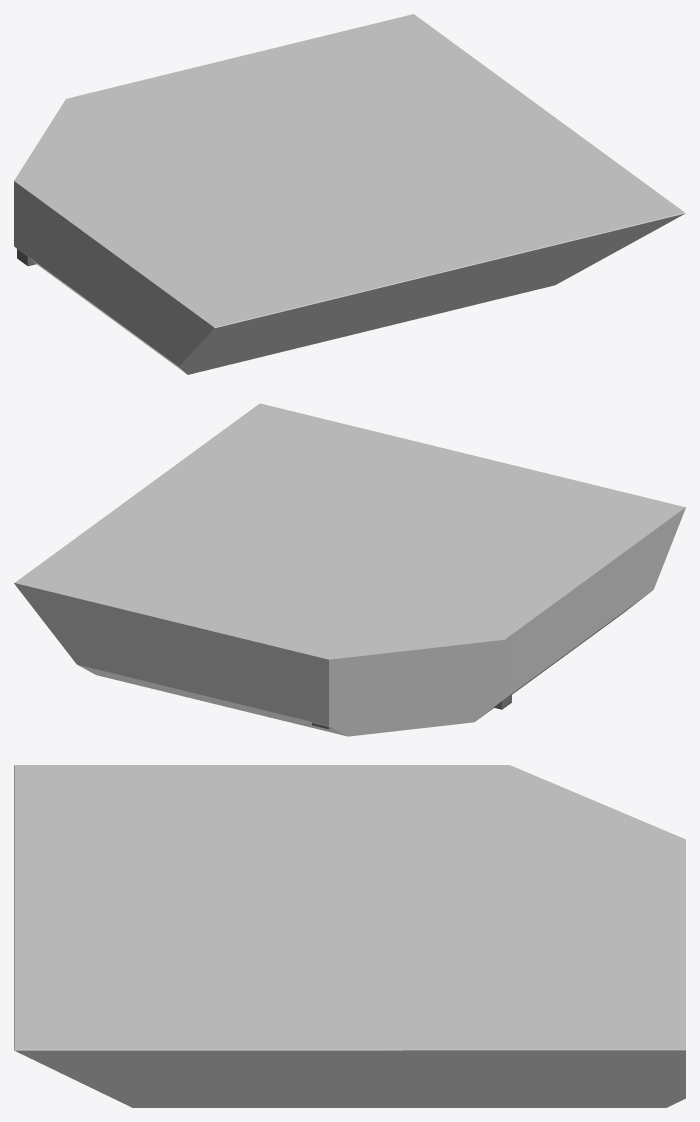
The model's file is SM_DG_HG_Floor02B.fbx.
3 views of the same model, one above another, from view 1: azimuth 30°, elevation 25°; view 2: azimuth 150°, elevation 25°; view 3: azimuth 270°, elevation 25° (orthographic). The views are drawn at different scales.
Parts seen in each view (by area): view 1: SM_DG_HG_Floor02B_ConvexHulls; view 2: SM_DG_HG_Floor02B_ConvexHulls; view 3: SM_DG_HG_Floor02B_ConvexHulls.
Part boxes in pixels (x1,y1,x2,y2): SM_DG_HG_Floor02B_ConvexHulls: (14,14,685,374); SM_DG_HG_Floor02B_ConvexHulls: (14,403,685,736); SM_DG_HG_Floor02B_ConvexHulls: (14,765,685,1107).
Bounding box in the file's own units: 493 × 492 × 87.48.
Materials: 3 (2 with a texture image).
